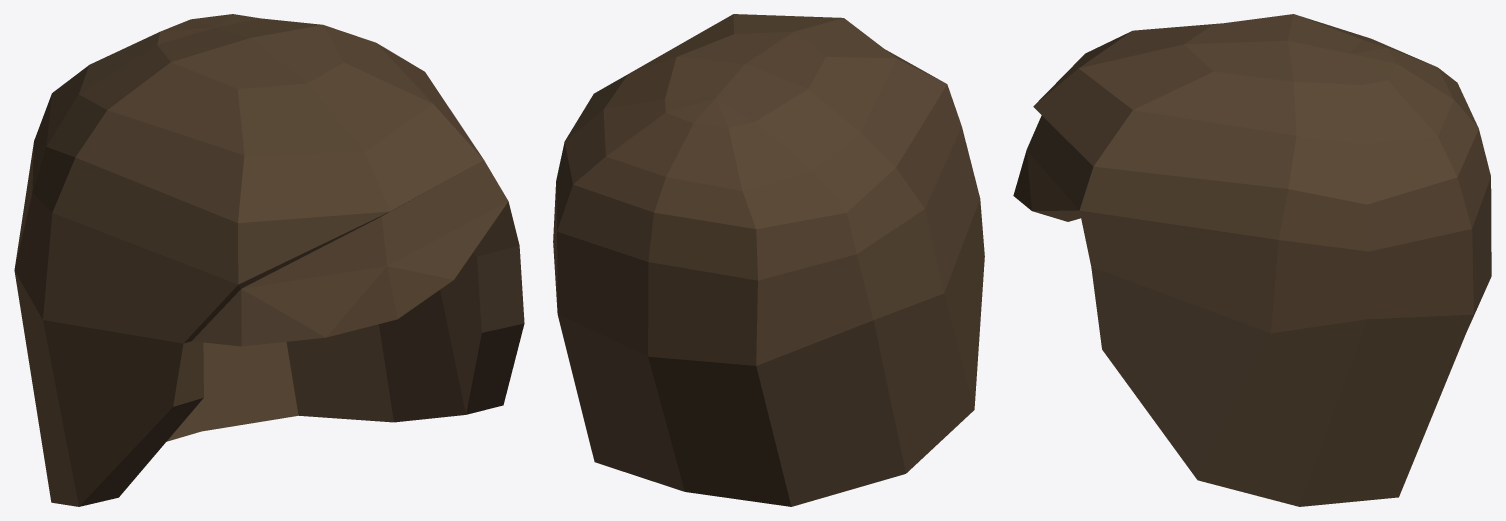
File: Female_Hairstyle_3.glb
3 views of the same model, side by side, from view 1: azimuth 30°, elevation 25°; view 2: azimuth 150°, elevation 25°; view 3: azimuth 270°, elevation 25° (orthographic). The views are drawn at different scales.
Visible parts, largest first — view 1: Female_Hairstyle_3; view 2: Female_Hairstyle_3; view 3: Female_Hairstyle_3.
Part boxes in pixels (left/top/right/bottom): Female_Hairstyle_3: left=14, top=14, right=524, bottom=506; Female_Hairstyle_3: left=553, top=14, right=984, bottom=506; Female_Hairstyle_3: left=1013, top=14, right=1491, bottom=506.
Size of the model in its own units: 0.5232 by 0.5234 by 0.5585.
